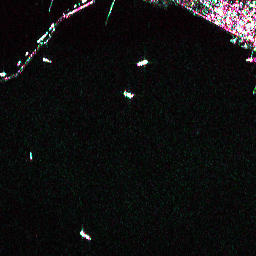ship: (78, 228, 94, 243), (121, 88, 136, 101), (134, 57, 149, 68), (40, 55, 53, 65)
